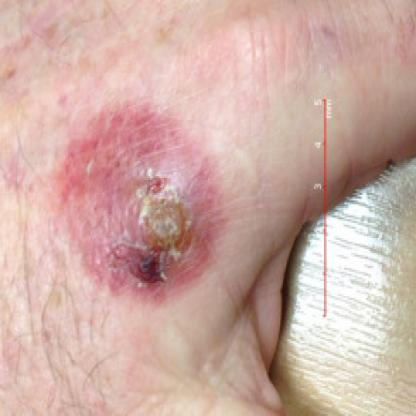Warts: (92, 153, 210, 301)
